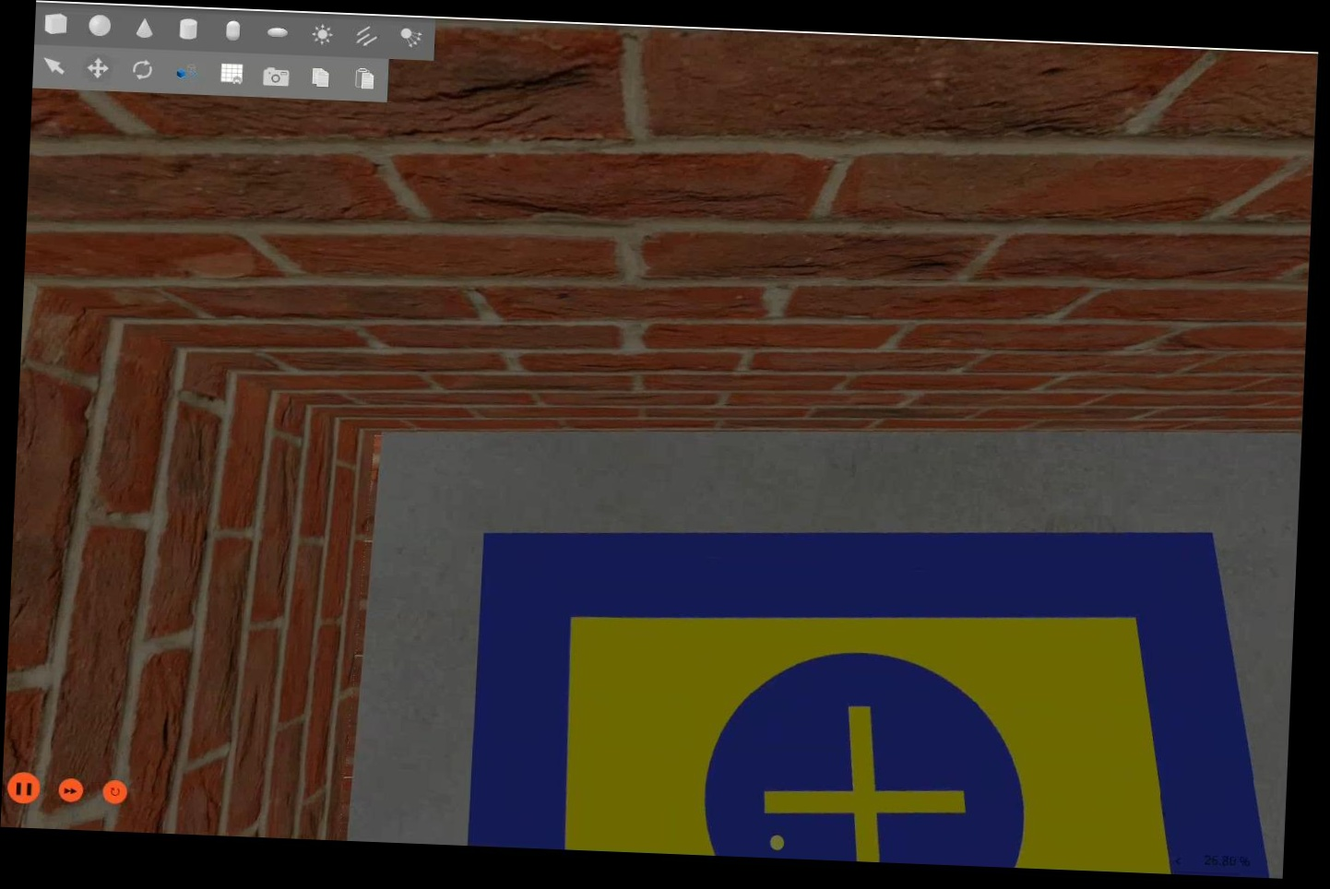large_base: (466, 502, 1286, 880)
